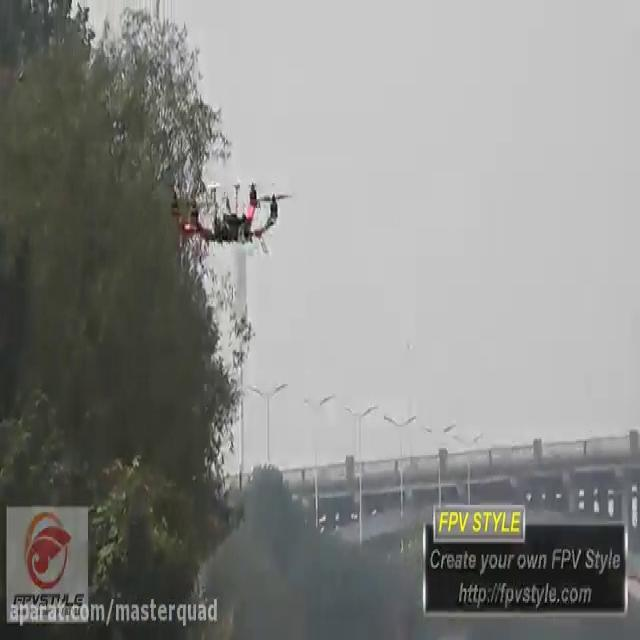drone: (163, 171, 295, 256)
